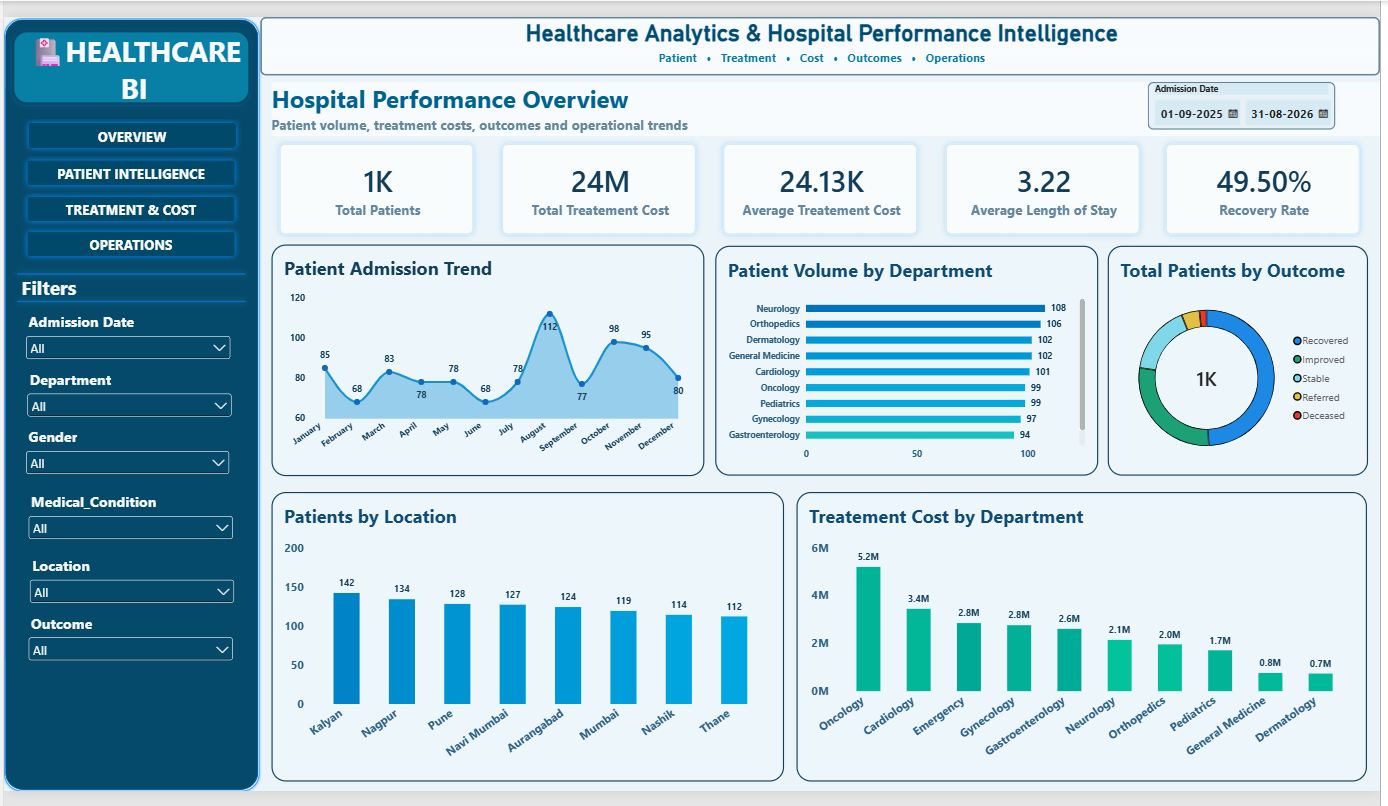

What the dashboard file says about the page in this screenshot:
{"tool":"powerbi","page":{"name":"Executive Overview","canvas":[1920,1080],"ordinal":0},"visuals":[{"type":"shape","box":[0,1.8,357.2,1079.2],"z":0},{"type":"textbox","title":"  Healthcare Analytics & Hospital Performance Intelligence","box":[357.6,0,1562.8,82],"z":1000},{"type":"textbox","title":"🏥HEALTHCARE  BI","box":[10,17.1,334.3,105.7],"z":2000},{"type":"actionButton","title":"OVERVIEW","box":[25.7,140,305.7,51.4],"z":3000},{"type":"actionButton","box":[24.3,191.4,305.7,51.4],"z":4000},{"type":"actionButton","box":[24.3,291.4,305.7,51],"z":5000},{"type":"actionButton","box":[24.3,242.9,305.7,51],"z":6000},{"type":"shape","box":[10,331.4,334.3,54.3],"z":7000},{"type":"textbox","title":"Filters","box":[24.3,358.6,124.3,38.6],"z":8000},{"type":"shape","box":[10,370,334.3,54.3],"z":9000},{"type":"slicer","fields":{"Values":["Healthcare Analytics.Admission_Date"]},"box":[25.7,411.4,294.3,67.1],"z":10000},{"type":"slicer","fields":{"Values":["Healthcare Analytics.Department"]},"box":[27.9,491.9,294.3,68.6],"z":11000},{"type":"slicer","fields":{"Values":["Healthcare Analytics.Gender"]},"box":[26.2,572.1,293,69.8],"z":12000},{"type":"slicer","fields":{"Values":["Healthcare Analytics.Medical_Condition"]},"box":[29.7,662.8,294.8,73.3],"z":13000},{"type":"slicer","fields":{"Values":["Healthcare Analytics.Location"]},"box":[31.4,751.7,294.8,80.2],"z":14000},{"type":"slicer","fields":{"Values":["Healthcare Analytics.Outcome"]},"box":[29.7,832,294.8,69.8],"z":15000},{"type":"textbox","title":"Hospital Performance Overview","box":[373.1,90.4,1548.1,75],"z":16000},{"type":"cardVisual","fields":{"Data":["Healthcare Analytics.Recovery Rate"]},"box":[1610.1,166.3,293,149.8],"z":17000},{"type":"cardVisual","fields":{"Data":["Healthcare Analytics.Total Patients"]},"box":[373.3,165.7,293,149.8],"z":18000},{"type":"cardVisual","fields":{"Data":["Healthcare Analytics.Total Treatement Cost"]},"box":[683.7,165.7,293,149.8],"z":19000},{"type":"cardVisual","fields":{"Data":["Healthcare Analytics.Average Treatement Cost"]},"box":[992.7,166.3,293,149.8],"z":20000},{"type":"cardVisual","fields":{"Data":["Healthcare Analytics.Average Length of Stay"]},"box":[1302.3,166.3,293,149.8],"z":21000},{"type":"slicer","fields":{"Values":["Healthcare Analytics.Admission_Date"]},"box":[1595.9,90.7,261.6,66.3],"z":22000},{"type":"lineChart","title":"Patient Admission Trend","fields":{"Category":["Healthcare Analytics.Admission_Date.Variation.Date Hierarchy.Month"],"Y":["Healthcare Analytics.Total Patients"]},"box":[373.1,317.3,603.8,323.1],"z":23000},{"type":"clusteredBarChart","title":"Patient Volume by Department","fields":{"Category":["Healthcare Analytics.Department"],"Y":["Healthcare Analytics.Total Patients"]},"box":[992.3,319.2,534.6,321.2],"z":24000},{"type":"donutChart","fields":{"Category":["Healthcare Analytics.Outcome"],"Y":["Healthcare Analytics.Total Patients"]},"box":[1540.4,319.2,363.5,321.2],"z":25000},{"type":"columnChart","title":"Patients by Location","fields":{"Category":["Healthcare Analytics.Location"],"Y":["Healthcare Analytics.Total Patients"]},"box":[373.1,663.5,715.4,403.8],"z":26000},{"type":"clusteredColumnChart","title":"Treatement Cost by Department","fields":{"Category":["Healthcare Analytics.Department"],"Y":["Healthcare Analytics.Total Treatement Cost"]},"box":[1105.8,663.5,796.2,403.8],"z":27000}]}

Visuals, with their boxes on the page's 1920x1080 design canvas (x1, y1, x2, y2). These are canvas units, not pixel positions in the 1388x806 screenshot, which may show the page scaled, cropped or inside an application window:
shape: detection(0, 2, 357, 1081)
"  Healthcare Analytics & Hospital Performance Intelligence" textbox: detection(358, 0, 1920, 82)
"🏥HEALTHCARE  BI" textbox: detection(10, 17, 344, 123)
"OVERVIEW" actionButton: detection(26, 140, 331, 191)
actionButton: detection(24, 191, 330, 243)
actionButton: detection(24, 291, 330, 342)
actionButton: detection(24, 243, 330, 294)
shape: detection(10, 331, 344, 386)
"Filters" textbox: detection(24, 359, 149, 397)
shape: detection(10, 370, 344, 424)
slicer - Healthcare Analytics.Admission_Date: detection(26, 411, 320, 478)
slicer - Healthcare Analytics.Department: detection(28, 492, 322, 560)
slicer - Healthcare Analytics.Gender: detection(26, 572, 319, 642)
slicer - Healthcare Analytics.Medical_Condition: detection(30, 663, 324, 736)
slicer - Healthcare Analytics.Location: detection(31, 752, 326, 832)
slicer - Healthcare Analytics.Outcome: detection(30, 832, 324, 902)
"Hospital Performance Overview" textbox: detection(373, 90, 1921, 165)
cardVisual - Healthcare Analytics.Recovery Rate: detection(1610, 166, 1903, 316)
cardVisual - Healthcare Analytics.Total Patients: detection(373, 166, 666, 316)
cardVisual - Healthcare Analytics.Total Treatement Cost: detection(684, 166, 977, 316)
cardVisual - Healthcare Analytics.Average Treatement Cost: detection(993, 166, 1286, 316)
cardVisual - Healthcare Analytics.Average Length of Stay: detection(1302, 166, 1595, 316)
slicer - Healthcare Analytics.Admission_Date: detection(1596, 91, 1858, 157)
"Patient Admission Trend" lineChart: detection(373, 317, 977, 640)
"Patient Volume by Department" clusteredBarChart: detection(992, 319, 1527, 640)
donutChart - Healthcare Analytics.Outcome x Healthcare Analytics.Total Patients: detection(1540, 319, 1904, 640)
"Patients by Location" columnChart: detection(373, 664, 1088, 1067)
"Treatement Cost by Department" clusteredColumnChart: detection(1106, 664, 1902, 1067)
